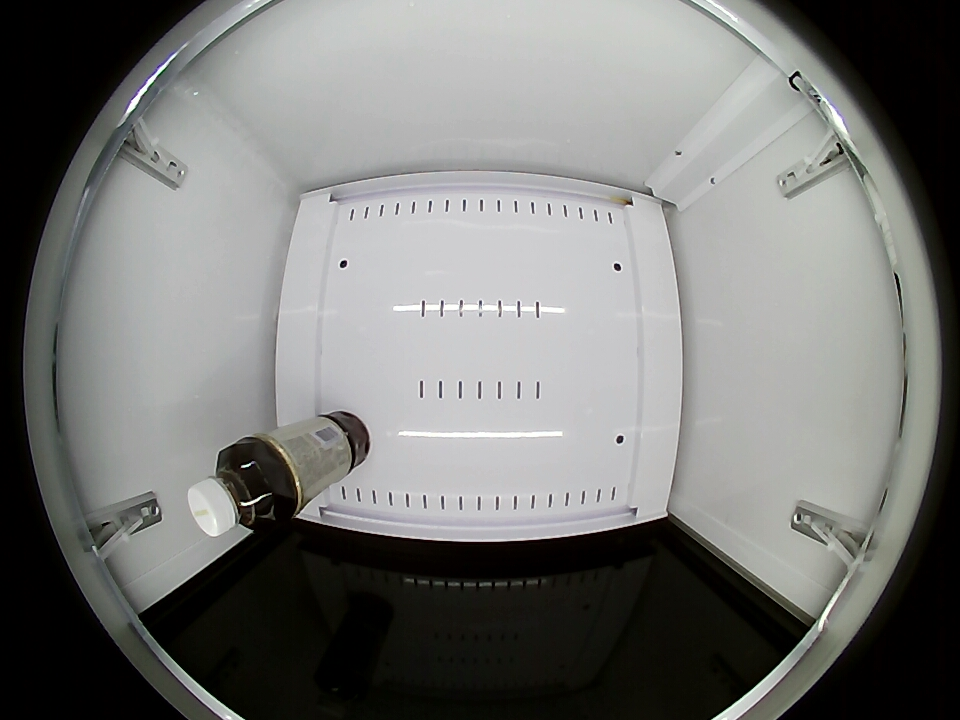wulongcha: (188, 442, 284, 537)
